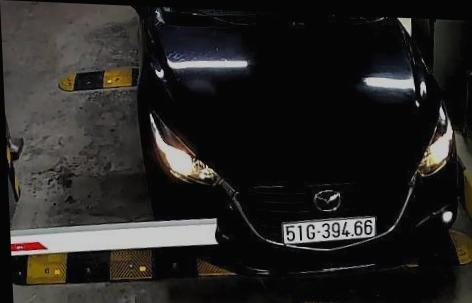License_Plate: (282, 214, 373, 246)
